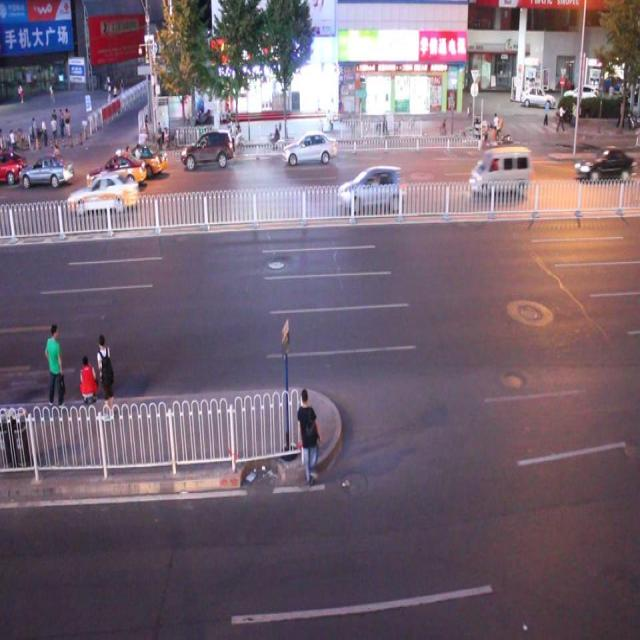car: (67, 172, 138, 212), (338, 166, 401, 210), (88, 152, 146, 188), (181, 129, 235, 167), (283, 130, 336, 166), (576, 145, 628, 181), (20, 154, 74, 187), (120, 142, 168, 174), (1, 148, 26, 181)
truck: (468, 148, 530, 198)
